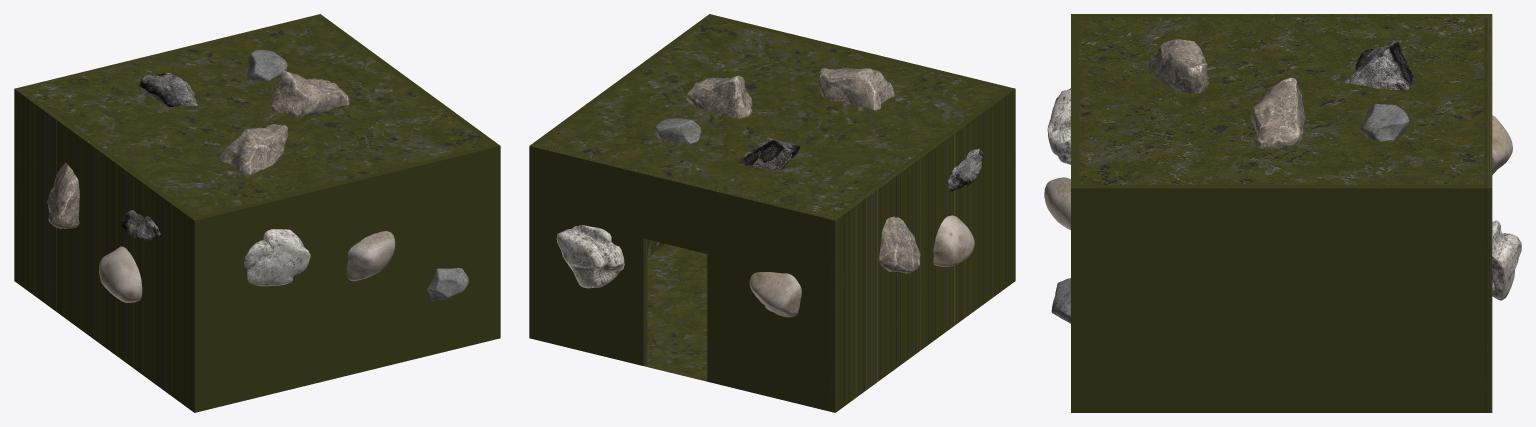
Rendered from Room2v2.fbx.
3 views of the same model, side by side, from view 1: azimuth 30°, elevation 25°; view 2: azimuth 150°, elevation 25°; view 3: azimuth 270°, elevation 25° (orthographic). The views are drawn at different scales.
Visible parts, largest first — view 1: Plane, Rock_1_Lod, rock.002, rock.001, Sample_stone_mesh.003, Sample_stone_mesh.002, rock, Low_uw, Cube.011, Cube.012, Low_uw.001; view 2: Plane, Rock_1_Lod.001, rock.001, rock.002, Sample_stone_mesh.001, rock, Sample_stone_mesh.003, Low_uw, Cube.011, Low_uw.001; view 3: Plane, rock.002, rock.001, Low_uw, Rock_1_Lod.001, Cube.011, Rock_1_Lod, Sample_stone_mesh.002, Sample_stone_mesh.001, Cube.012.
Part boxes in pixels (x1,y1,x2,y2): Plane: (14,14,500,412); Rock_1_Lod: (244,229,310,286); rock.002: (270,71,349,116); rock.001: (219,124,288,174); Sample_stone_mesh.003: (99,246,142,302); Sample_stone_mesh.002: (346,231,395,281); rock: (47,162,79,228); Low_uw: (139,72,197,107); Cube.011: (244,50,287,81); Cube.012: (427,268,468,300); Low_uw.001: (121,210,161,240); Plane: (529,14,1015,412); Rock_1_Lod.001: (556,225,624,288); rock.001: (818,68,894,110); rock.002: (686,75,752,118); Sample_stone_mesh.001: (749,272,801,317); rock: (878,216,920,273); Sample_stone_mesh.003: (933,215,974,266); Low_uw: (738,137,799,170); Cube.011: (655,118,701,143); Low_uw.001: (948,148,982,191); Plane: (1071,14,1492,412); rock.002: (1251,77,1305,149); rock.001: (1148,39,1208,93); Low_uw: (1345,41,1413,89); Rock_1_Lod.001: (1492,220,1521,300); Cube.011: (1361,104,1409,141); Rock_1_Lod: (1047,88,1070,164); Sample_stone_mesh.002: (1044,177,1070,230); Sample_stone_mesh.001: (1492,115,1512,174); Cube.012: (1051,278,1070,323).
Bounding box in the file's own units: 538 × 356 × 578.
